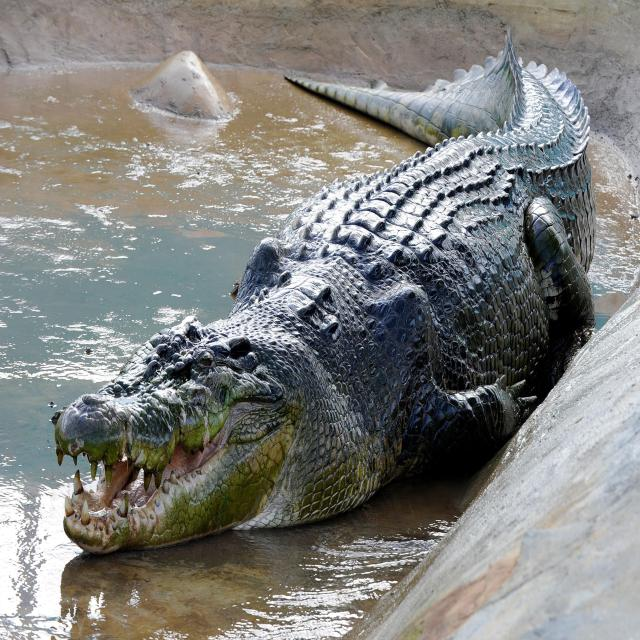crocodile: (49, 36, 602, 553)
